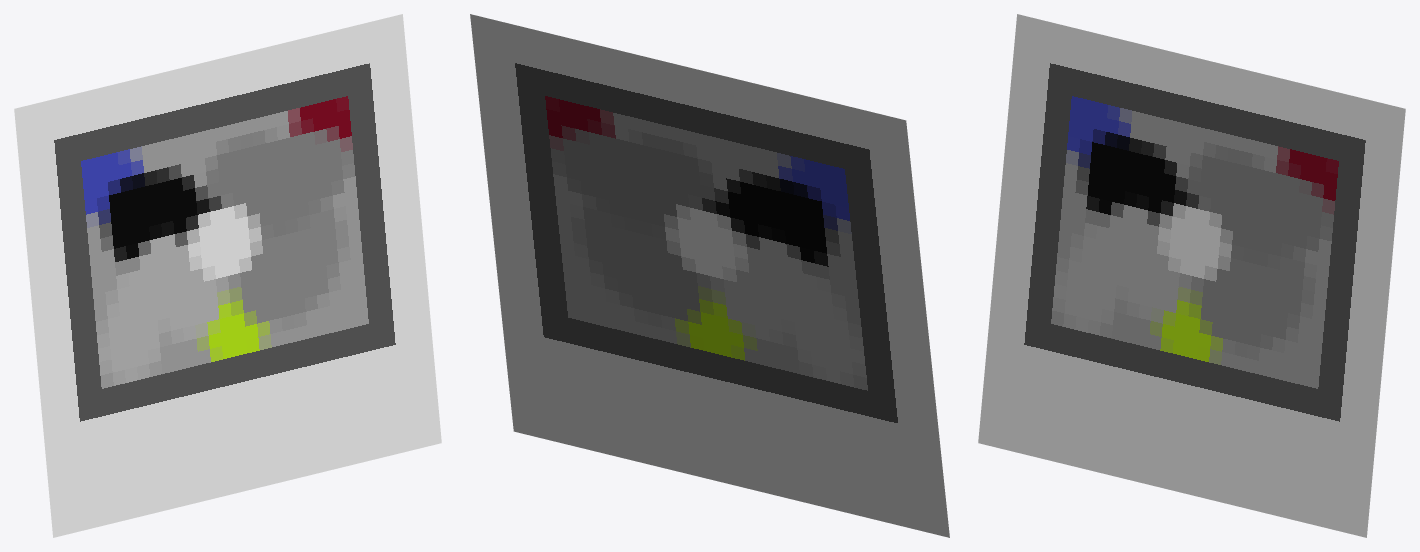
File: Photo.fbx
3 renders of one model, left to right at view 1: azimuth 30°, elevation 25°; view 2: azimuth 150°, elevation 25°; view 3: azimuth 330°, elevation 25°, orthographic. The views are drawn at different scales.
Parts seen in each view (by area): view 1: Photo; view 2: Photo; view 3: Photo.
Part boxes in pixels (bbox=[...]): Photo: bbox=[14, 14, 441, 537]; Photo: bbox=[470, 14, 949, 537]; Photo: bbox=[978, 14, 1405, 537].
Size of the model in its own units: 60 by 10.42 by 59.09.
Materials: 1 (1 with a texture image).
